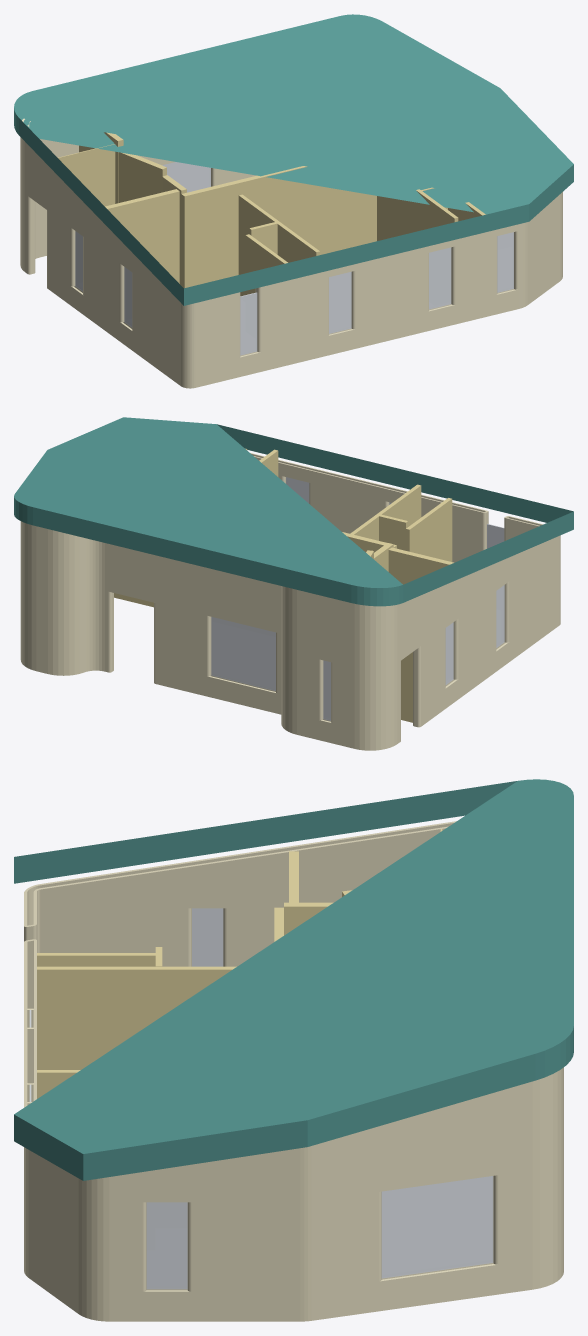
3 renders of one model, top to bottom at view 1: azimuth 30°, elevation 25°; view 2: azimuth 150°, elevation 25°; view 3: azimuth 270°, elevation 25°, orthographic. The views are drawn at different scales.
Size of the model in its own units: 36.83 by 13.72 by 28.33.
